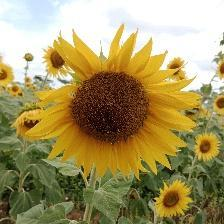sunflower: (24, 25, 206, 184)
